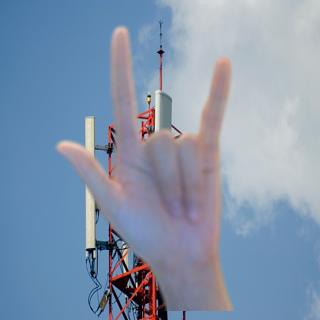ILY: (51, 20, 244, 268)
